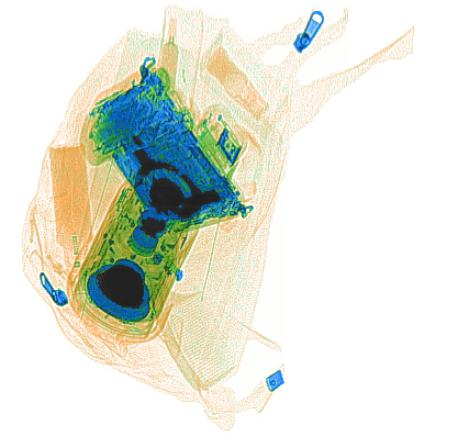plasticBottleWithaNozzle: (48, 140, 95, 297)
